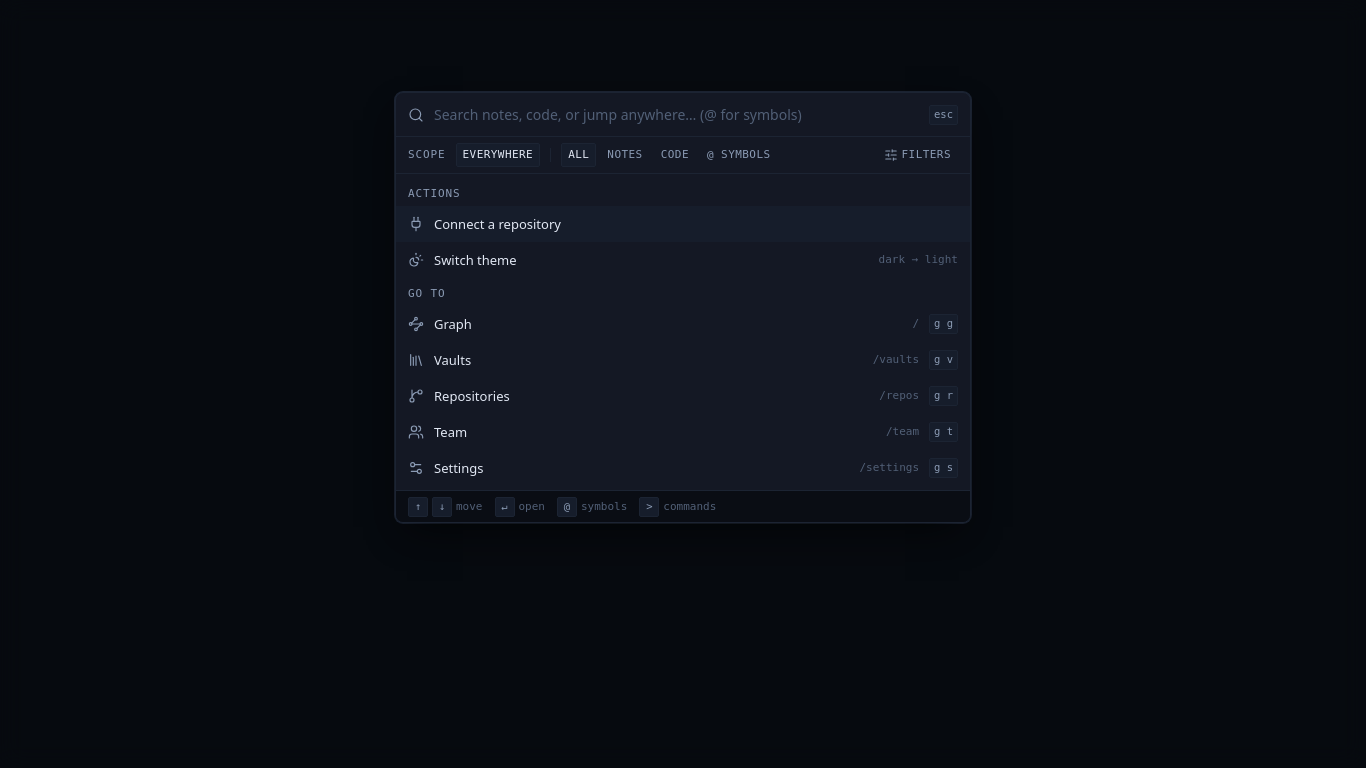
Test: SearchOverlay › renders both note and code results, with note chips and score
Type "jane" into the dropdown with placeholder "Search notes, code, or jump anywhere… (@ for symbols)" at (676, 115), box [434,93,919,136]
Wait 300 ms
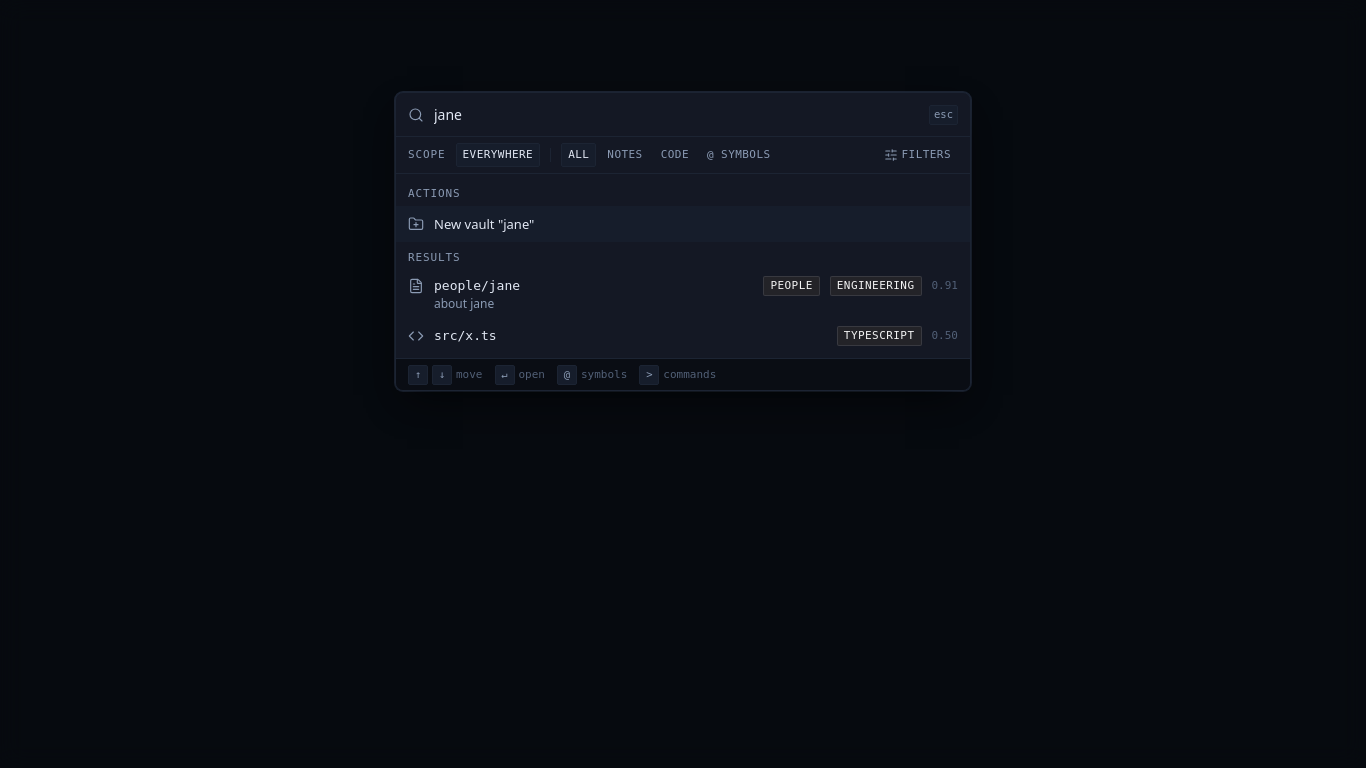
Check: the text "people/jane" is shown, box [434,278,520,293]
Check: the text "src/x.ts" is shown, box [434,328,497,343]
Check: the text "engineering" is shown, box [830,276,922,296]
